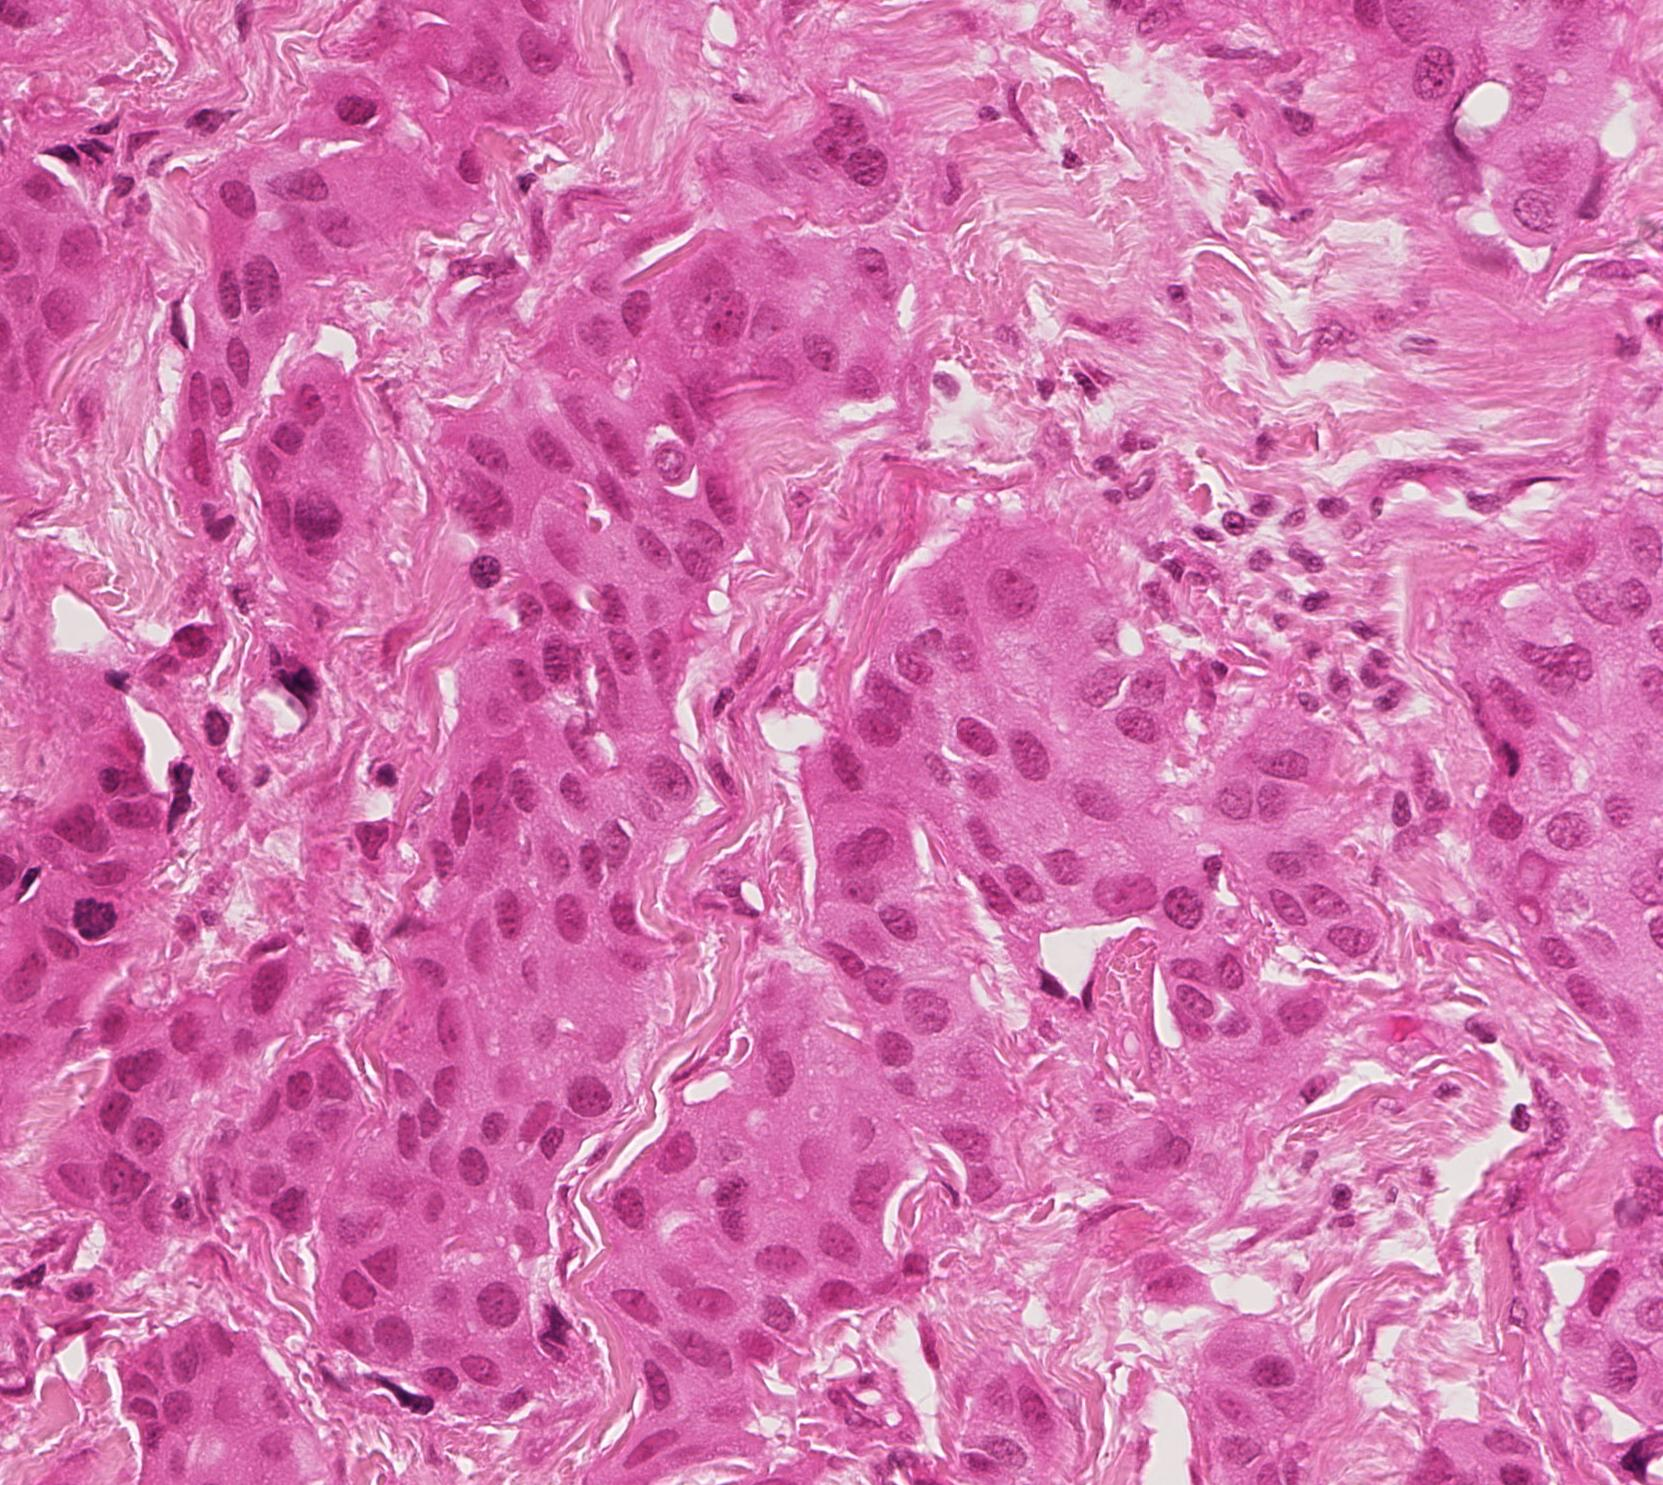mitosis: (54, 879, 115, 937)
